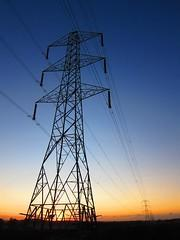power_tower: (25, 26, 114, 226)
